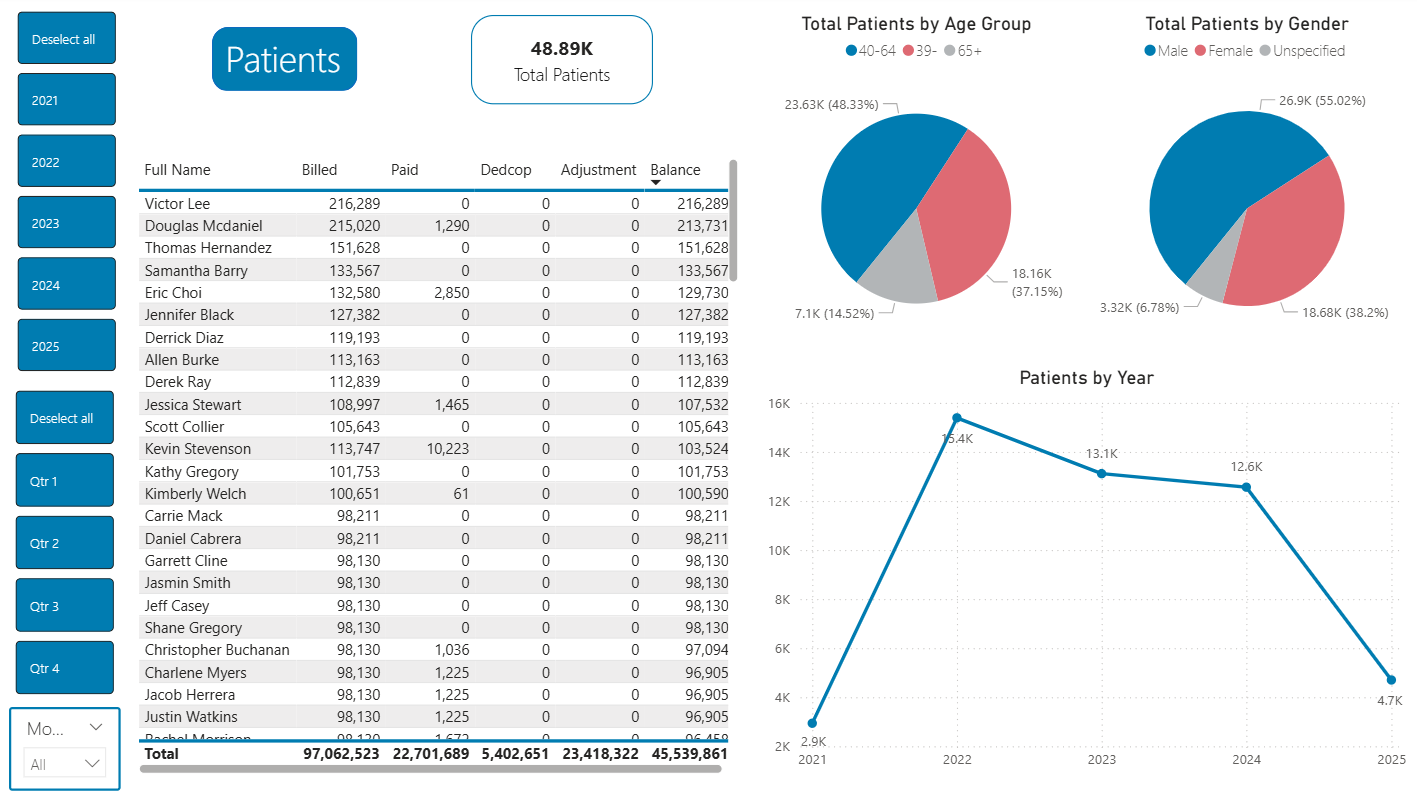

Layout of this report page (visuals, bound fields, positions):
{"tool":"powerbi","page":{"name":"Patients","canvas":[1280,720],"ordinal":2},"visuals":[{"type":"cardVisual","fields":{"Data":["Count(Fact_Cases.full_name)"]},"box":[410.5,0,197.4,114.8],"z":0},{"type":"lineChart","fields":{"Y":["CountNonNull(Fact_Cases.full_name)"],"Category":["Fact_Cases.created.Variation.Date Hierarchy.Year"]},"box":[687.7,331.7,581.6,370.6],"z":1000},{"type":"tableEx","fields":{"Values":["Fact_Cases.full_name","Sum(Fact_Bill_Payments.billed)","Sum(Fact_Bill_Payments.paid)","Sum(Fact_Bill_Payments.dedcop)","Sum(Fact_Bill_Payments.adjustment)","Sum(Fact_Bill_Payments.balance)"]},"box":[123.5,141,547.6,561.2],"z":2000},{"type":"pieChart","fields":{"Category":["Fact_Cases.gender"],"Y":["CountNonNull(Fact_Cases.full_name)"]},"box":[975.6,14.6,293.7,304.4],"z":3000},{"type":"pieChart","fields":{"Category":["Fact_Cases.age_group"],"Y":["CountNonNull(Fact_Cases.full_name)"]},"box":[687.7,14.6,276.2,304.4],"z":4000},{"type":"advancedSlicerVisual","fields":{"Values":["Fact_Cases.created.Variation.Date Hierarchy.Year"]},"box":[16.5,8.8,98.2,332.6],"z":5000},{"type":"advancedSlicerVisual","fields":{"Values":["Fact_Cases.created.Variation.Date Hierarchy.Quarter"]},"box":[14.6,348.2,98.2,282.1],"z":6000},{"type":"slicer","fields":{"Values":["Fact_Cases.created.Variation.Date Hierarchy.Month"]},"box":[13.6,637.1,100.2,74.9],"z":7000},{"type":"shape","box":[195.5,28.2,130.3,57.4],"z":8000},{"type":"textbox","box":[202.3,28.2,136.2,57.4],"z":9000}]}

Visuals, with their boxes in screenshot pixels (x1, y1, x2, y2), scaled from the page's 1280x720 canvas onto the 1417x797 screenshot:
cardVisual - Count(Fact_Cases.full_name): {"x1": 454, "y1": 0, "x2": 673, "y2": 127}
lineChart - CountNonNull(Fact_Cases.full_name) x Fact_Cases.created.Variation.Date Hierarchy.Year: {"x1": 761, "y1": 367, "x2": 1405, "y2": 777}
tableEx - Fact_Cases.full_name x Sum(Fact_Bill_Payments.billed): {"x1": 137, "y1": 156, "x2": 743, "y2": 777}
pieChart - Fact_Cases.gender x CountNonNull(Fact_Cases.full_name): {"x1": 1080, "y1": 16, "x2": 1405, "y2": 353}
pieChart - Fact_Cases.age_group x CountNonNull(Fact_Cases.full_name): {"x1": 761, "y1": 16, "x2": 1067, "y2": 353}
advancedSlicerVisual - Fact_Cases.created.Variation.Date Hierarchy.Year: {"x1": 18, "y1": 10, "x2": 127, "y2": 378}
advancedSlicerVisual - Fact_Cases.created.Variation.Date Hierarchy.Quarter: {"x1": 16, "y1": 385, "x2": 125, "y2": 698}
slicer - Fact_Cases.created.Variation.Date Hierarchy.Month: {"x1": 15, "y1": 705, "x2": 126, "y2": 788}
shape: {"x1": 216, "y1": 31, "x2": 361, "y2": 95}
textbox: {"x1": 224, "y1": 31, "x2": 375, "y2": 95}
